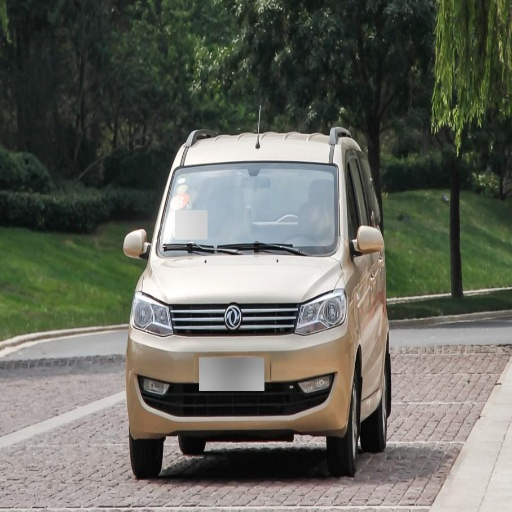front_bumper: (128, 302, 360, 435)
front_right_light: (131, 290, 175, 334)
hood: (144, 252, 342, 305)
